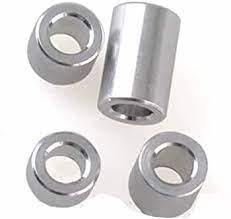No thread: (146, 138, 199, 186), (38, 142, 92, 188), (48, 11, 98, 57), (104, 94, 158, 126)
